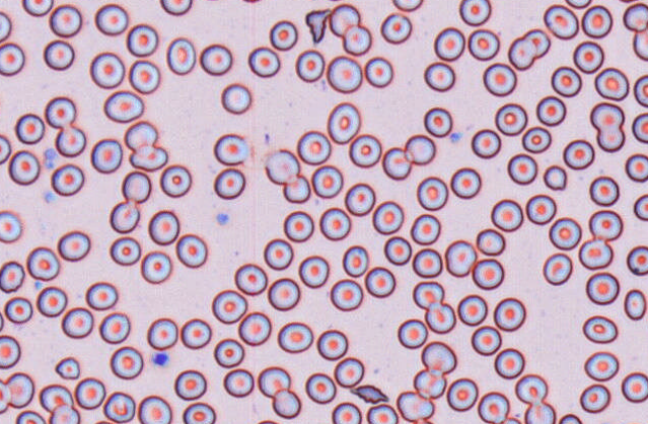PLT: (152, 350, 170, 367), (450, 130, 465, 144), (216, 212, 231, 225), (44, 191, 57, 204), (44, 147, 57, 160), (43, 159, 55, 170)
RBC: (327, 101, 361, 144), (326, 55, 362, 93), (103, 90, 144, 123), (89, 51, 125, 88), (264, 148, 300, 184), (211, 289, 247, 324), (296, 130, 331, 165), (543, 4, 578, 39), (420, 340, 456, 374), (396, 390, 434, 422), (444, 239, 476, 277), (594, 67, 629, 101), (482, 62, 516, 96), (585, 271, 619, 305), (548, 216, 582, 250), (348, 133, 381, 168), (238, 311, 271, 346), (26, 246, 59, 281), (8, 149, 40, 185), (277, 321, 313, 353), (166, 37, 196, 75), (329, 278, 363, 311), (493, 297, 526, 331), (50, 163, 84, 196), (490, 198, 523, 232), (109, 346, 143, 379), (267, 277, 300, 311), (128, 59, 160, 94), (433, 26, 465, 61), (578, 238, 613, 270), (588, 209, 623, 241), (90, 138, 122, 173), (416, 175, 448, 210), (213, 133, 248, 165), (175, 233, 207, 268), (148, 209, 179, 245), (49, 4, 82, 37), (494, 102, 527, 135), (159, 164, 192, 197), (234, 262, 267, 295), (328, 3, 360, 37), (446, 377, 478, 411), (94, 3, 128, 35), (319, 206, 351, 240), (311, 164, 343, 198), (140, 250, 172, 284), (372, 200, 404, 234), (5, 371, 34, 408), (477, 391, 510, 423), (572, 40, 604, 73), (126, 23, 158, 56), (199, 43, 232, 75), (146, 317, 178, 350), (514, 373, 548, 404), (581, 4, 612, 38), (344, 182, 375, 216), (584, 351, 619, 381), (582, 314, 618, 343), (129, 144, 167, 171), (424, 301, 456, 333), (54, 125, 86, 157), (44, 96, 76, 128), (304, 372, 336, 404), (103, 391, 135, 423), (380, 12, 412, 44), (467, 28, 499, 60), (562, 138, 594, 170), (550, 65, 582, 97), (213, 167, 245, 199), (61, 306, 93, 338), (413, 368, 446, 399), (109, 200, 140, 233), (257, 366, 290, 397), (471, 258, 504, 289), (247, 46, 280, 77), (298, 255, 329, 288), (450, 166, 481, 199), (542, 252, 573, 285), (173, 369, 206, 400), (57, 230, 90, 261), (99, 311, 130, 344), (590, 101, 624, 131), (124, 120, 158, 150), (382, 146, 412, 180), (494, 347, 525, 379), (404, 133, 435, 165), (333, 356, 364, 388), (74, 377, 105, 409), (316, 329, 348, 360), (525, 193, 556, 225), (14, 112, 45, 144), (220, 82, 251, 114), (283, 210, 314, 242), (109, 235, 141, 266), (36, 285, 67, 317), (180, 317, 211, 349), (121, 170, 151, 203), (295, 49, 325, 82), (39, 383, 73, 412), (137, 394, 171, 423), (43, 39, 74, 70), (364, 266, 395, 297), (213, 337, 244, 368), (507, 153, 537, 185), (410, 213, 440, 245), (457, 294, 487, 326), (423, 61, 455, 91), (263, 238, 293, 270), (507, 37, 536, 70), (85, 281, 118, 310), (397, 318, 427, 349), (470, 325, 501, 355), (579, 383, 610, 413), (412, 247, 442, 278), (536, 95, 566, 126), (589, 175, 619, 206), (412, 280, 444, 309), (342, 23, 371, 55), (364, 56, 393, 88), (271, 388, 301, 418), (471, 128, 501, 158), (423, 106, 452, 137), (223, 368, 254, 397), (342, 244, 369, 277), (383, 235, 412, 265), (269, 19, 297, 50), (458, 0, 491, 26), (522, 28, 550, 58), (282, 173, 310, 203), (521, 125, 551, 153), (621, 371, 647, 403), (0, 260, 25, 293), (0, 42, 24, 76), (475, 228, 505, 255), (3, 296, 33, 323), (596, 126, 625, 152), (182, 401, 216, 423), (623, 288, 646, 320), (0, 210, 22, 243), (623, 2, 647, 31), (524, 401, 555, 423), (0, 334, 20, 368), (624, 153, 647, 182), (331, 401, 361, 423), (366, 403, 398, 423), (626, 245, 647, 275), (543, 164, 567, 190), (54, 356, 80, 379), (49, 404, 80, 423), (631, 112, 647, 143), (22, 0, 53, 16), (632, 28, 647, 61), (159, 0, 192, 15), (633, 74, 647, 107), (15, 409, 46, 423), (633, 193, 647, 221), (0, 379, 11, 413), (0, 133, 11, 164), (0, 10, 11, 41), (392, 0, 423, 11), (558, 413, 582, 423), (564, 0, 591, 8), (409, 418, 434, 424), (501, 416, 521, 423), (93, 419, 114, 424), (255, 419, 280, 423), (0, 310, 4, 331), (239, 0, 263, 3), (618, 0, 639, 3)
Schistocyte: (303, 8, 332, 46), (349, 384, 391, 405)
